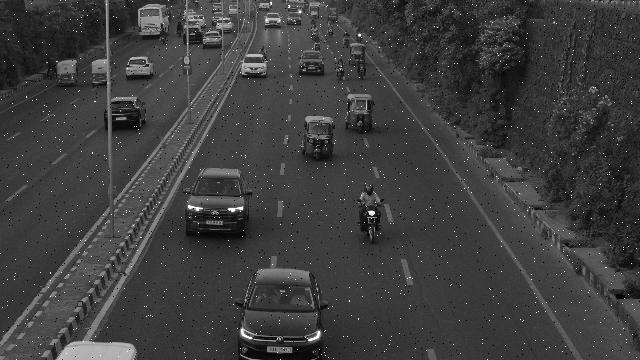With Helmet: (365, 184, 373, 196), (338, 56, 342, 62), (260, 46, 264, 52)
Without Helmet: (359, 57, 363, 62)
